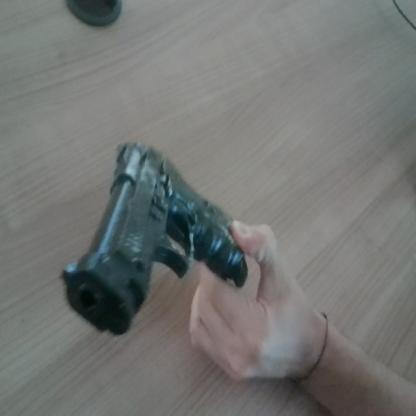handgun: (59, 122, 260, 341)
